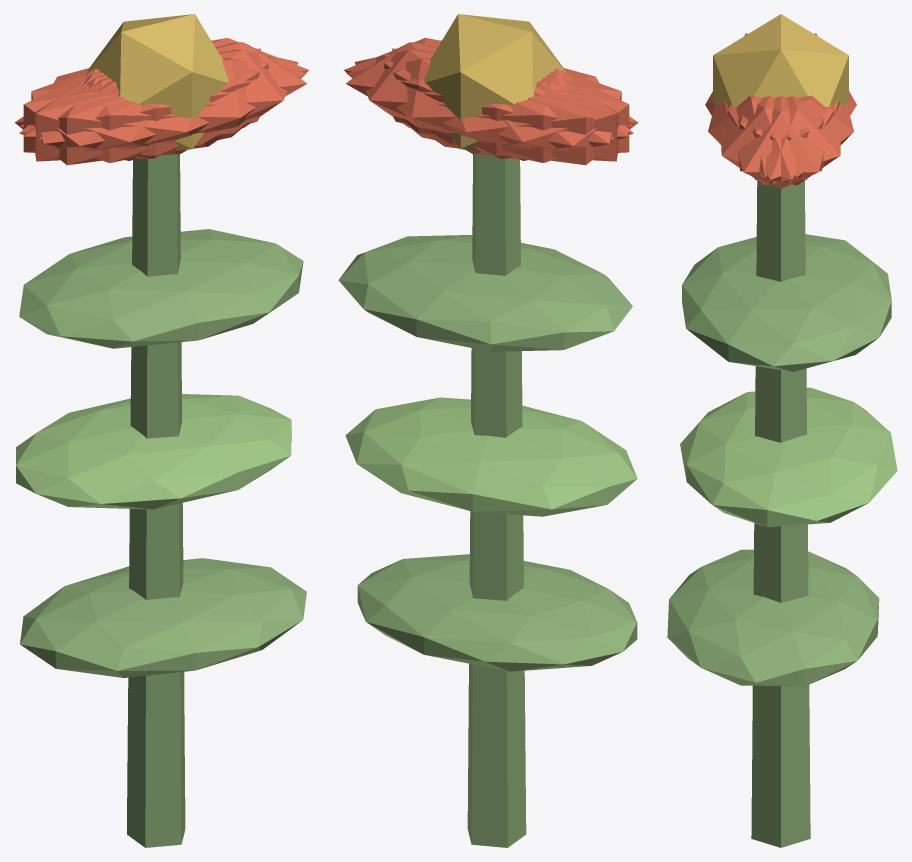
File: xanthosoma-sagittifolium.glb
3 views of the same model, side by side, from view 1: azimuth 30°, elevation 25°; view 2: azimuth 150°, elevation 25°; view 3: azimuth 270°, elevation 25° (orthographic).
Visible parts, largest first — view 1: stem, leaf0, leaf2, leaf1, center, petal1, petal6, petal2, petal5, petal7, petal0, petal4 (+2 smaller); view 2: stem, leaf1, leaf2, leaf0, center, petal8, petal3, petal7, petal4, petal2, petal0, petal5 (+2 smaller); view 3: stem, leaf2, leaf1, leaf0, center, petal0, petal5, petal4, petal8, petal1.
Part boxes in pixels (bbox=[...]): stem: bbox=[127, 154, 185, 847]; leaf0: bbox=[20, 558, 306, 677]; leaf2: bbox=[19, 229, 303, 348]; leaf1: bbox=[16, 394, 291, 509]; center: bbox=[87, 14, 228, 151]; petal1: bbox=[19, 57, 306, 162]; petal6: bbox=[14, 70, 222, 165]; petal2: bbox=[35, 48, 260, 161]; petal5: bbox=[38, 49, 298, 155]; petal7: bbox=[23, 54, 269, 158]; petal0: bbox=[87, 42, 307, 145]; petal4: bbox=[20, 38, 308, 136]; stem: bbox=[467, 154, 526, 847]; leaf1: bbox=[345, 397, 637, 516]; leaf2: bbox=[338, 235, 632, 351]; leaf0: bbox=[357, 554, 637, 671]; center: bbox=[424, 14, 565, 151]; petal8: bbox=[346, 57, 633, 162]; petal3: bbox=[430, 70, 638, 165]; petal7: bbox=[392, 48, 618, 161]; petal4: bbox=[354, 49, 614, 155]; petal2: bbox=[383, 54, 629, 158]; petal0: bbox=[346, 42, 565, 145]; petal5: bbox=[344, 38, 632, 136]; stem: bbox=[751, 180, 810, 847]; leaf2: bbox=[682, 234, 891, 371]; leaf1: bbox=[680, 387, 897, 527]; leaf0: bbox=[667, 549, 879, 686]; center: bbox=[713, 14, 848, 106]; petal0: bbox=[722, 96, 839, 188]; petal5: bbox=[721, 96, 834, 185]; petal4: bbox=[728, 96, 840, 185]; petal8: bbox=[738, 95, 853, 177]; petal1: bbox=[708, 95, 823, 177].
Size of the model in its own units: 0.1452 by 0.3988 by 0.1036.
